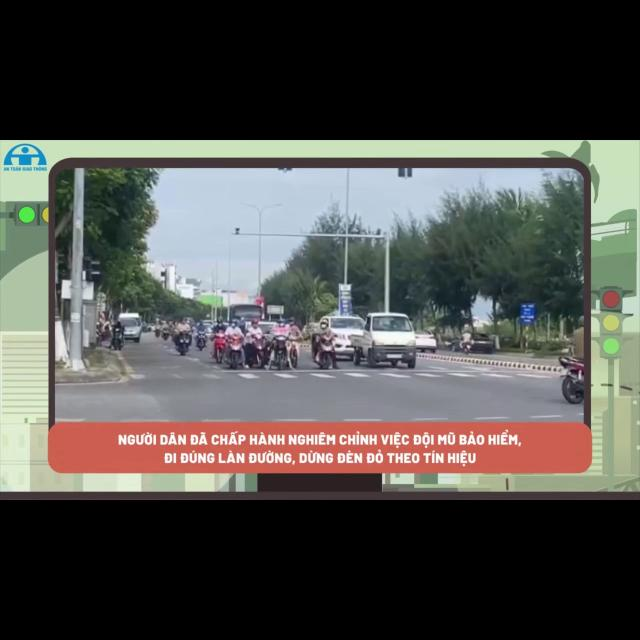car: (321, 316, 364, 360), (119, 318, 142, 342), (470, 333, 494, 353), (416, 331, 436, 352)
motorcycle: (559, 357, 584, 404), (246, 334, 267, 367), (269, 335, 287, 370), (317, 335, 334, 369), (227, 335, 243, 369), (212, 331, 226, 363), (176, 332, 190, 356), (112, 327, 123, 350), (290, 337, 298, 368), (196, 332, 206, 350), (460, 341, 471, 354), (154, 328, 162, 338), (162, 329, 169, 340)
